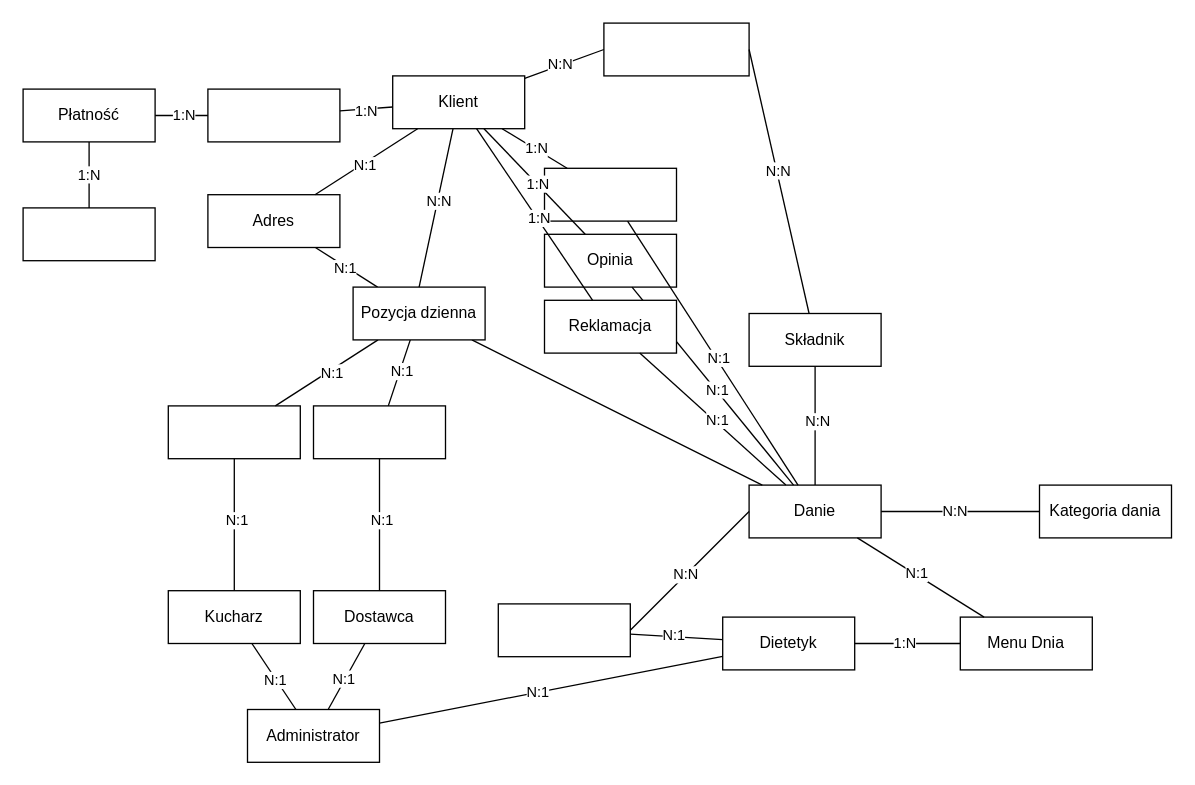
Some shapes in this 1195 by 785 pixel diagram are drawn without their labels. Here are the shapes that lost their labels. From the top down, the centre of each, then its label:
[676,49]: Alergeny
[273,115]: Zamówienie
[609,194]: Ulubione
[88,234]: Faktura
[233,432]: Realizacja
[379,432]: Dostawę
[563,630]: Plan żywieniowy
